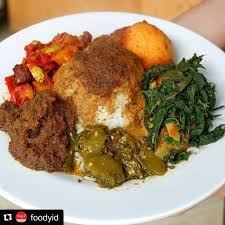Nasi padang: (4, 21, 211, 185)
